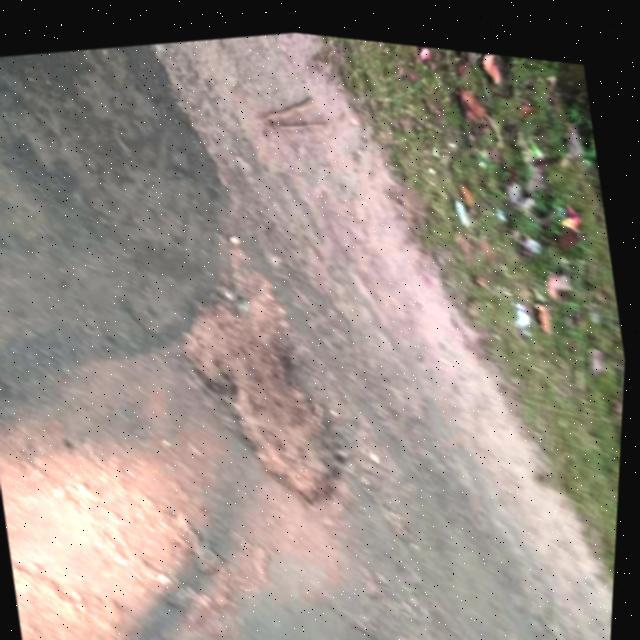pothole: (161, 250, 370, 526)
